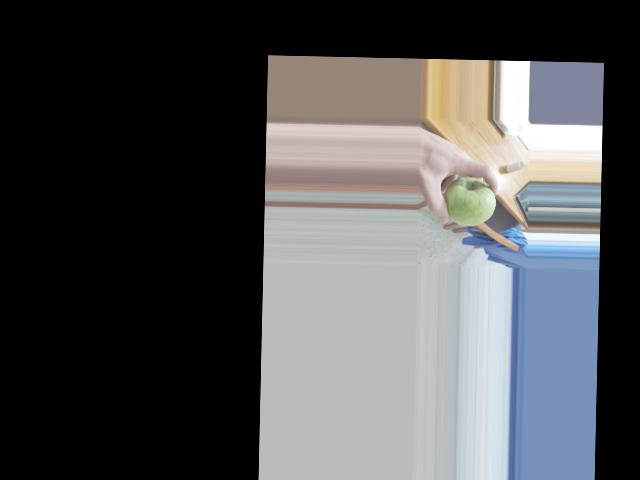apple: (442, 175, 498, 227)
